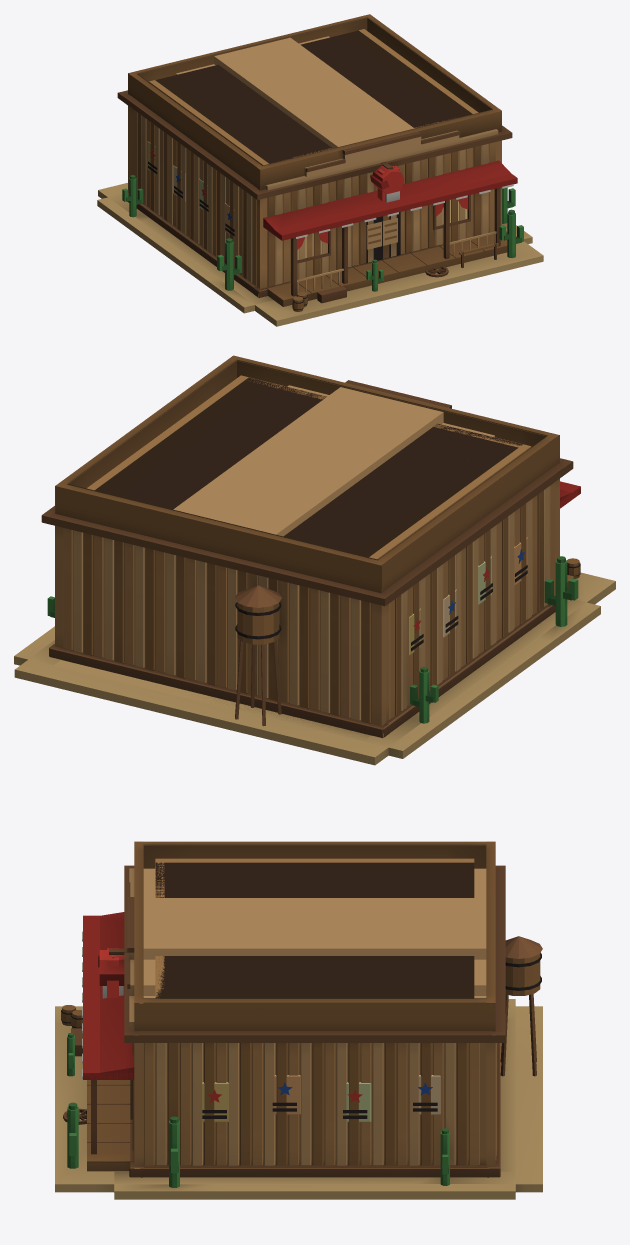
The model's file is CactusBoxerFloor.fbx.
3 renders of one model, top to bottom at view 1: azimuth 30°, elevation 25°; view 2: azimuth 150°, elevation 25°; view 3: azimuth 270°, elevation 25°, orthographic. The views are drawn at different scales.
Parts seen in each view (by area): view 1: CB_F_Smooth, CB_F_Quiet, CB_F_Rings, CB_I_Quiet, CB_S_All, CB_I_Rings, CB_F_Props; view 2: CB_F_Smooth, CB_F_Quiet, CB_I_Quiet, CB_F_Rings, CB_S_All, CB_I_Rings, CB_F_Props; view 3: CB_F_Quiet, CB_F_Smooth, CB_S_All, CB_I_Quiet, CB_F_Rings, CB_F_Props, CB_I_Rings.
Boxes of the visible parts, x1,y1,x2,y2 form: CB_F_Smooth: [97, 93, 543, 326]; CB_F_Quiet: [98, 14, 543, 320]; CB_F_Rings: [128, 17, 510, 289]; CB_I_Quiet: [155, 30, 472, 163]; CB_S_All: [119, 36, 517, 310]; CB_I_Rings: [149, 29, 478, 165]; CB_F_Props: [129, 165, 515, 303]; CB_F_Smooth: [14, 380, 615, 765]; CB_F_Quiet: [14, 355, 615, 757]; CB_I_Quiet: [95, 377, 522, 557]; CB_F_Rings: [55, 359, 580, 726]; CB_S_All: [28, 385, 580, 738]; CB_I_Rings: [87, 375, 531, 559]; CB_F_Props: [235, 560, 566, 673]; CB_F_Quiet: [55, 841, 542, 1191]; CB_F_Smooth: [55, 865, 542, 1199]; CB_S_All: [83, 868, 515, 1192]; CB_I_Quiet: [155, 862, 474, 998]; CB_F_Rings: [83, 844, 495, 1167]; CB_F_Props: [61, 936, 542, 1134]; CB_I_Rings: [155, 858, 474, 998].
Size of the model in its own units: 60 by 20 by 60.
